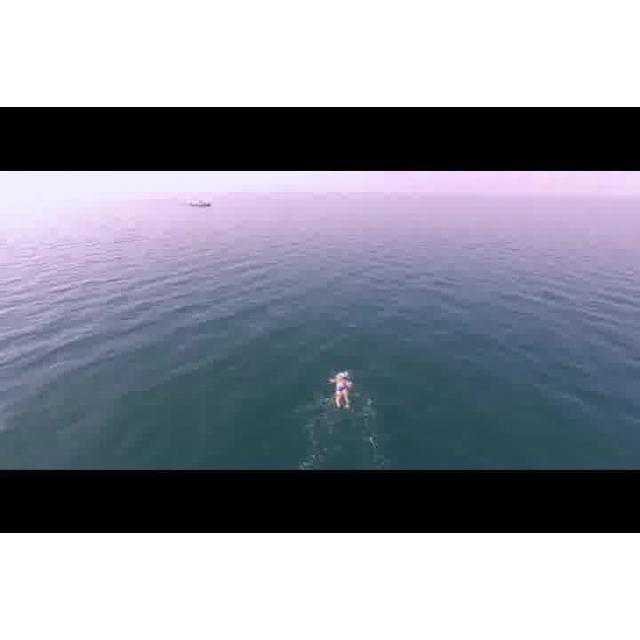human: (330, 371, 356, 411)
